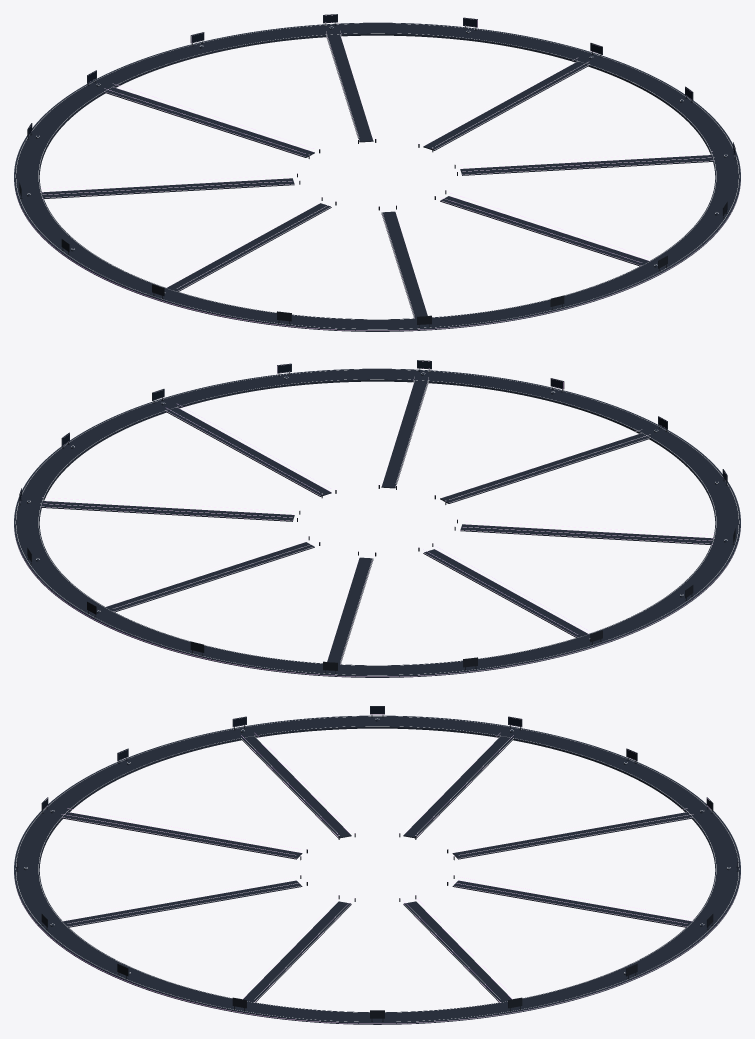
The picture shows the model from 3 angles, top to bottom: view 1: azimuth 30°, elevation 25°; view 2: azimuth 150°, elevation 25°; view 3: azimuth 270°, elevation 25°; orthographic projection.
Parts seen in each view (by area): view 1: nexo_community_ring.lod0; view 2: nexo_community_ring.lod0; view 3: nexo_community_ring.lod0.
Part boxes in pixels (box(x1,y1,x2,y2)): nexo_community_ring.lod0: box(14, 14, 740, 331); nexo_community_ring.lod0: box(14, 360, 740, 677); nexo_community_ring.lod0: box(14, 706, 740, 1024).
Size of the model in its own units: 201 by 5.57 by 201.
